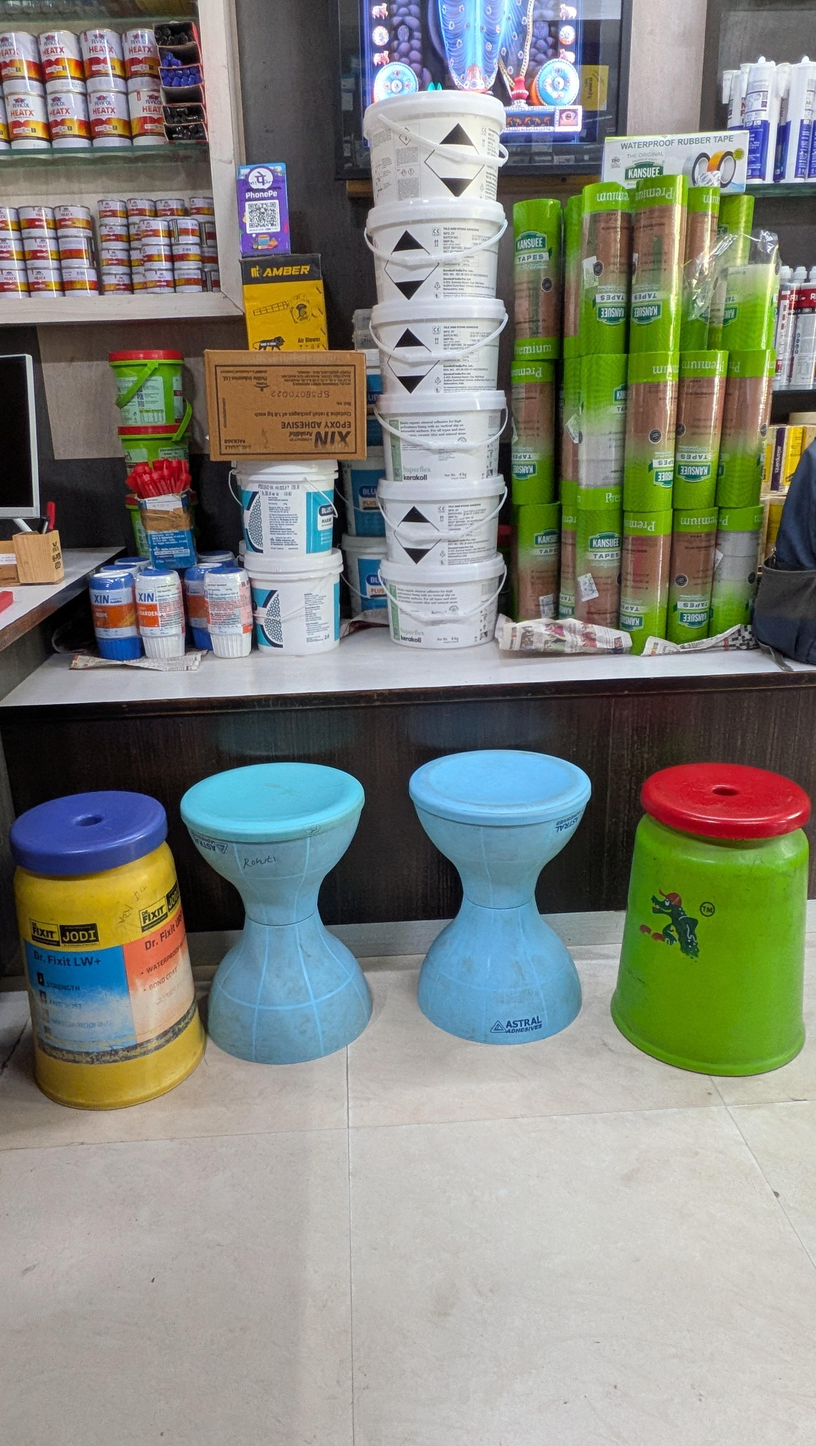Fevicol_HEATX: (80, 28, 128, 94), (0, 31, 46, 98), (39, 30, 86, 93), (4, 93, 51, 149), (45, 93, 92, 148), (87, 91, 133, 147), (123, 27, 161, 92), (128, 90, 168, 145), (62, 260, 98, 297), (23, 237, 61, 269), (59, 238, 98, 269), (18, 208, 58, 238), (27, 262, 63, 295), (56, 206, 93, 237), (0, 263, 29, 296), (168, 219, 201, 246), (142, 244, 174, 270), (100, 249, 133, 274), (97, 200, 128, 226), (0, 238, 24, 271), (126, 199, 157, 224), (171, 246, 203, 270), (146, 268, 176, 293), (141, 220, 170, 245), (99, 226, 130, 249), (173, 269, 203, 292), (156, 198, 188, 219), (101, 275, 133, 295), (0, 208, 21, 238), (190, 197, 214, 222), (0, 96, 11, 150), (129, 248, 146, 274), (198, 223, 217, 246), (200, 246, 218, 270), (201, 271, 221, 292), (128, 223, 142, 248), (132, 273, 148, 294)
